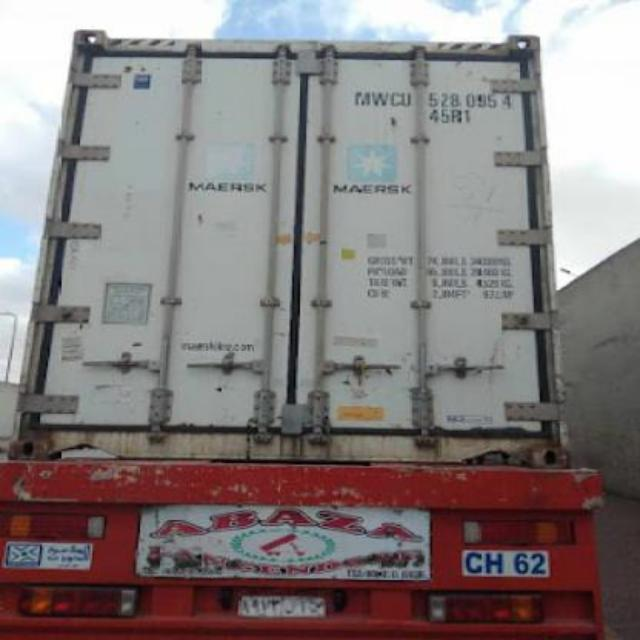0: (464, 92, 476, 110)
2: (436, 88, 449, 108)
4: (502, 92, 514, 110)
5: (486, 94, 496, 108), (430, 92, 438, 108)
8: (452, 92, 458, 108)
9: (474, 92, 486, 110)
C: (390, 92, 402, 108)
M: (354, 90, 372, 106)
U: (402, 92, 412, 110)
W: (370, 89, 390, 105)
